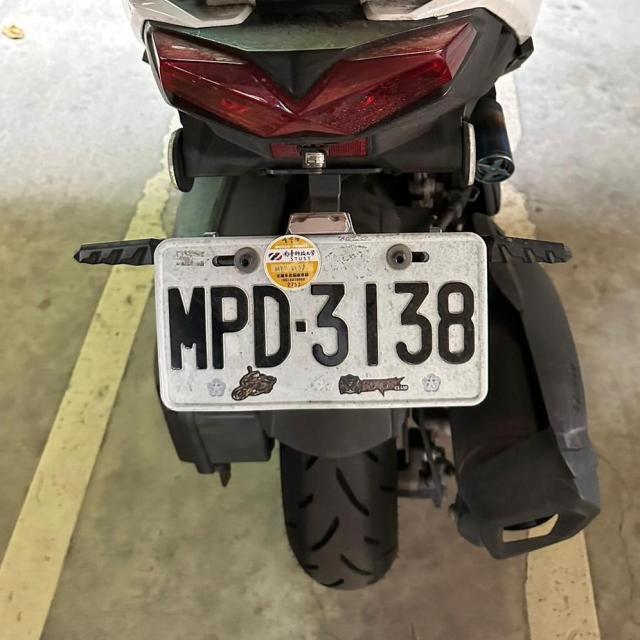W: (142, 229, 495, 414)
